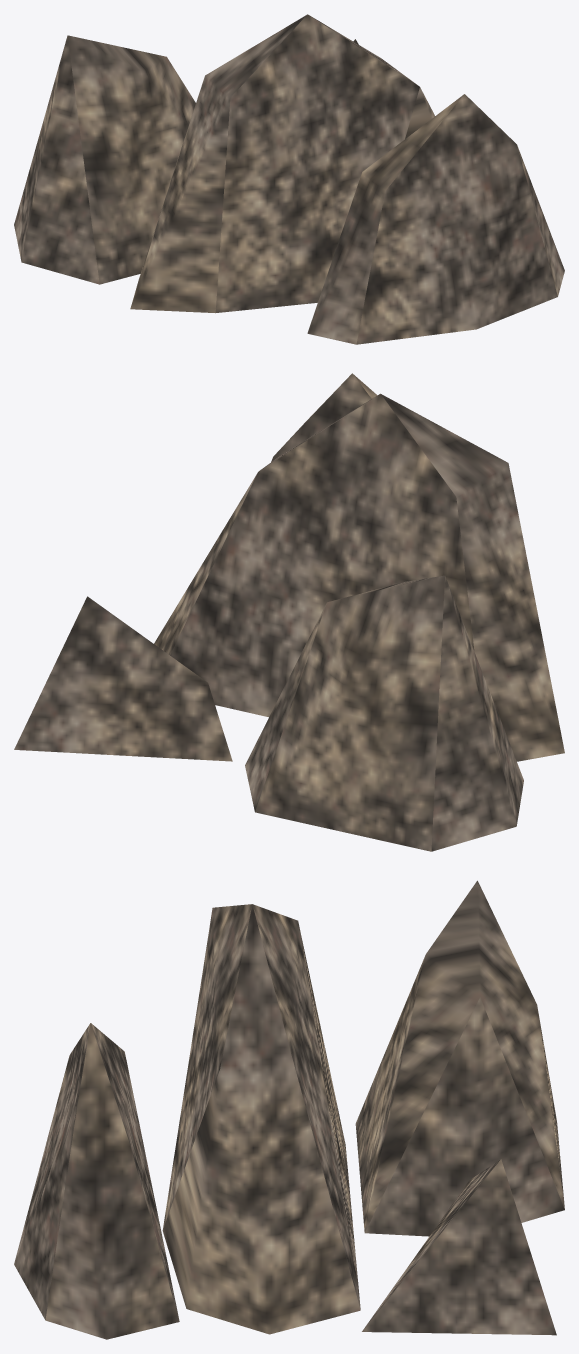
Rendered from rock_vformation2.glb.
3 renders of one model, top to bottom at view 1: azimuth 30°, elevation 25°; view 2: azimuth 150°, elevation 25°; view 3: azimuth 270°, elevation 25°, orthographic. The views are drawn at different scales.
Parts seen in each view (by area): view 1: Rock_VFormation2; view 2: Rock_VFormation2; view 3: Rock_VFormation2.
Part boxes in pixels (box(x1,y1,x2,y2)): Rock_VFormation2: box(14, 14, 564, 344); Rock_VFormation2: box(14, 373, 564, 851); Rock_VFormation2: box(14, 880, 564, 1339).
Size of the model in its own units: 24.89 by 15.55 by 24.41.
1 material, 1 textured.
